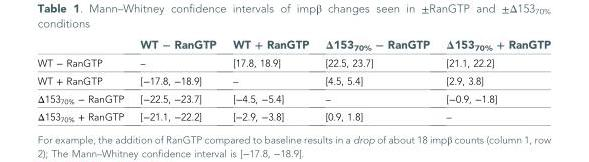table: (36, 36, 549, 123)
table column: (316, 36, 437, 123), (437, 36, 549, 123), (36, 36, 131, 123), (223, 36, 316, 123), (131, 36, 223, 123)
table column header: (36, 36, 549, 54)
table row: (36, 36, 549, 54), (36, 71, 549, 89), (36, 89, 549, 107), (36, 54, 549, 71), (36, 107, 549, 123)
